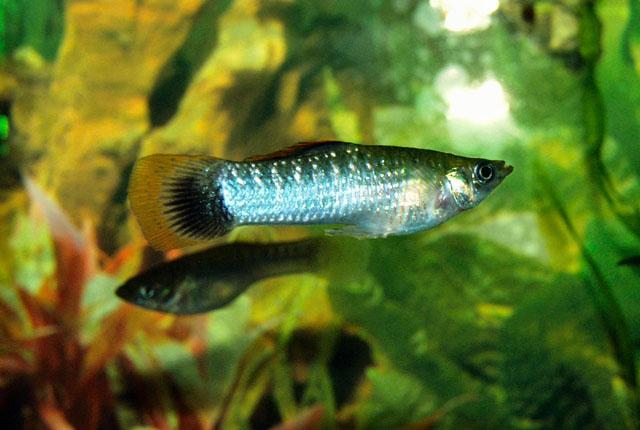Mulut: (480, 146, 534, 190), (102, 277, 136, 313)
Sirip Dada: (394, 158, 454, 210)
Sirip Ekor: (108, 131, 235, 271), (316, 225, 370, 281)
Sirip Punggung: (239, 122, 357, 186)
